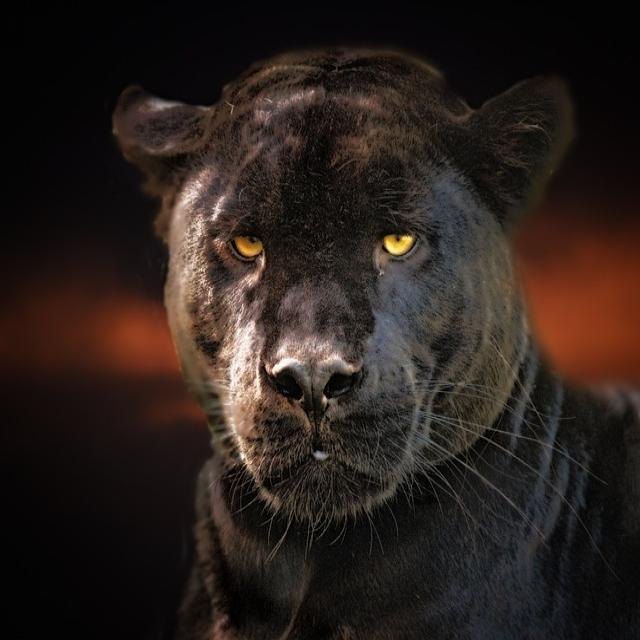Carnivorous: (111, 45, 640, 640)
